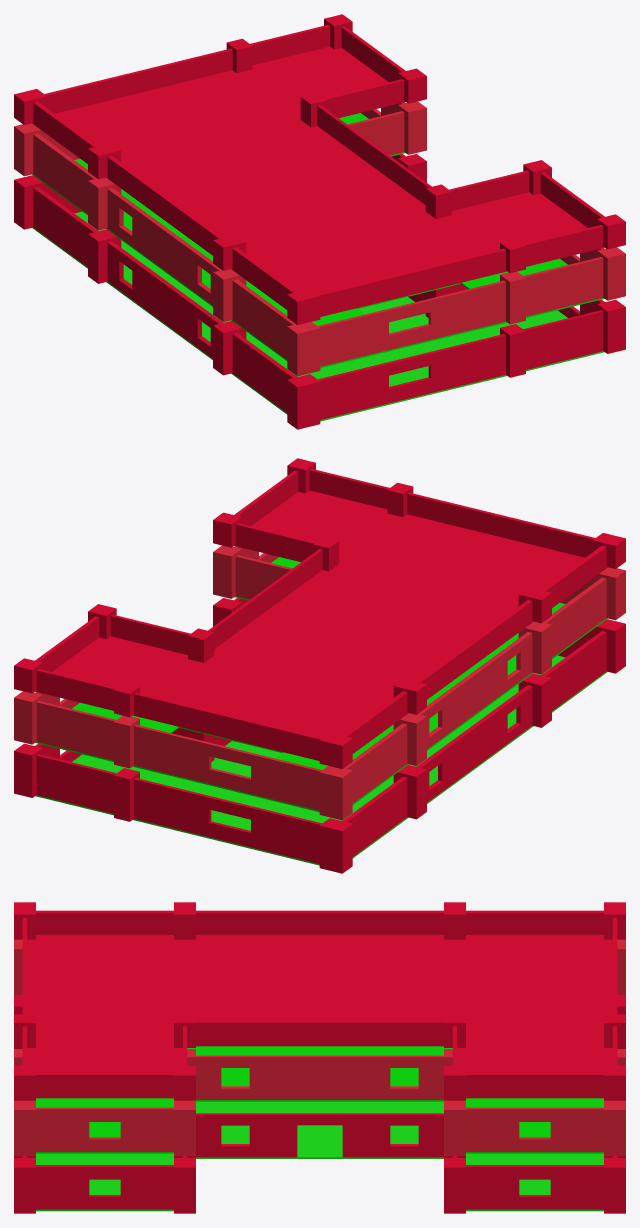
File: building1.fbx
The picture shows the model from 3 angles, top to bottom: view 1: azimuth 30°, elevation 25°; view 2: azimuth 150°, elevation 25°; view 3: azimuth 270°, elevation 25°; orthographic projection. The views are drawn at different scales.
Parts seen in each view (by area): view 1: Roof, GroundFloor, firstFloor; view 2: Roof, GroundFloor, firstFloor; view 3: Roof, GroundFloor, firstFloor.
Part boxes in pixels (left/top/right/bottom): Roof: left=14, top=14, right=625, bottom=324; GroundFloor: left=14, top=154, right=625, bottom=429; firstFloor: left=14, top=101, right=625, bottom=376; Roof: left=14, top=458, right=625, bottom=768; GroundFloor: left=14, top=598, right=625, bottom=873; firstFloor: left=14, top=545, right=625, bottom=820; Roof: left=14, top=902, right=625, bottom=1100; GroundFloor: left=14, top=995, right=625, bottom=1213; firstFloor: left=14, top=939, right=625, bottom=1155.
Bounding box in the file's own units: 9959 × 3745 × 14886.
